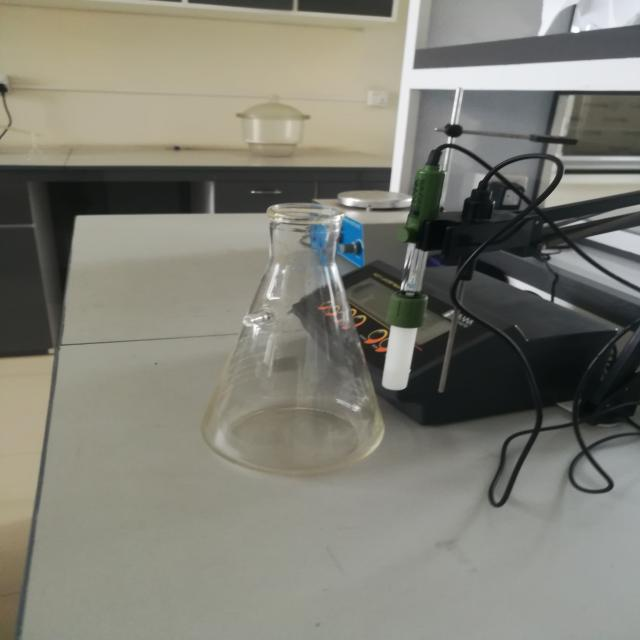Conical_Flask: (170, 183, 430, 498)
